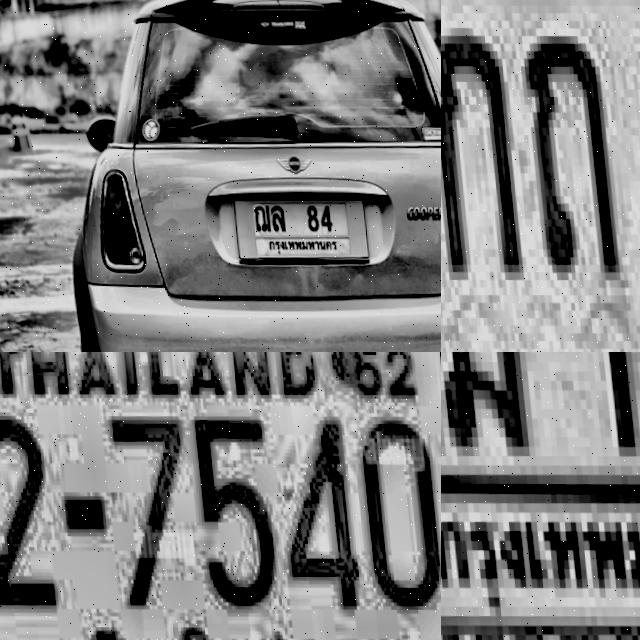license-plate: (0, 352, 441, 640), (441, 0, 640, 352), (441, 352, 640, 640), (226, 182, 369, 263)
